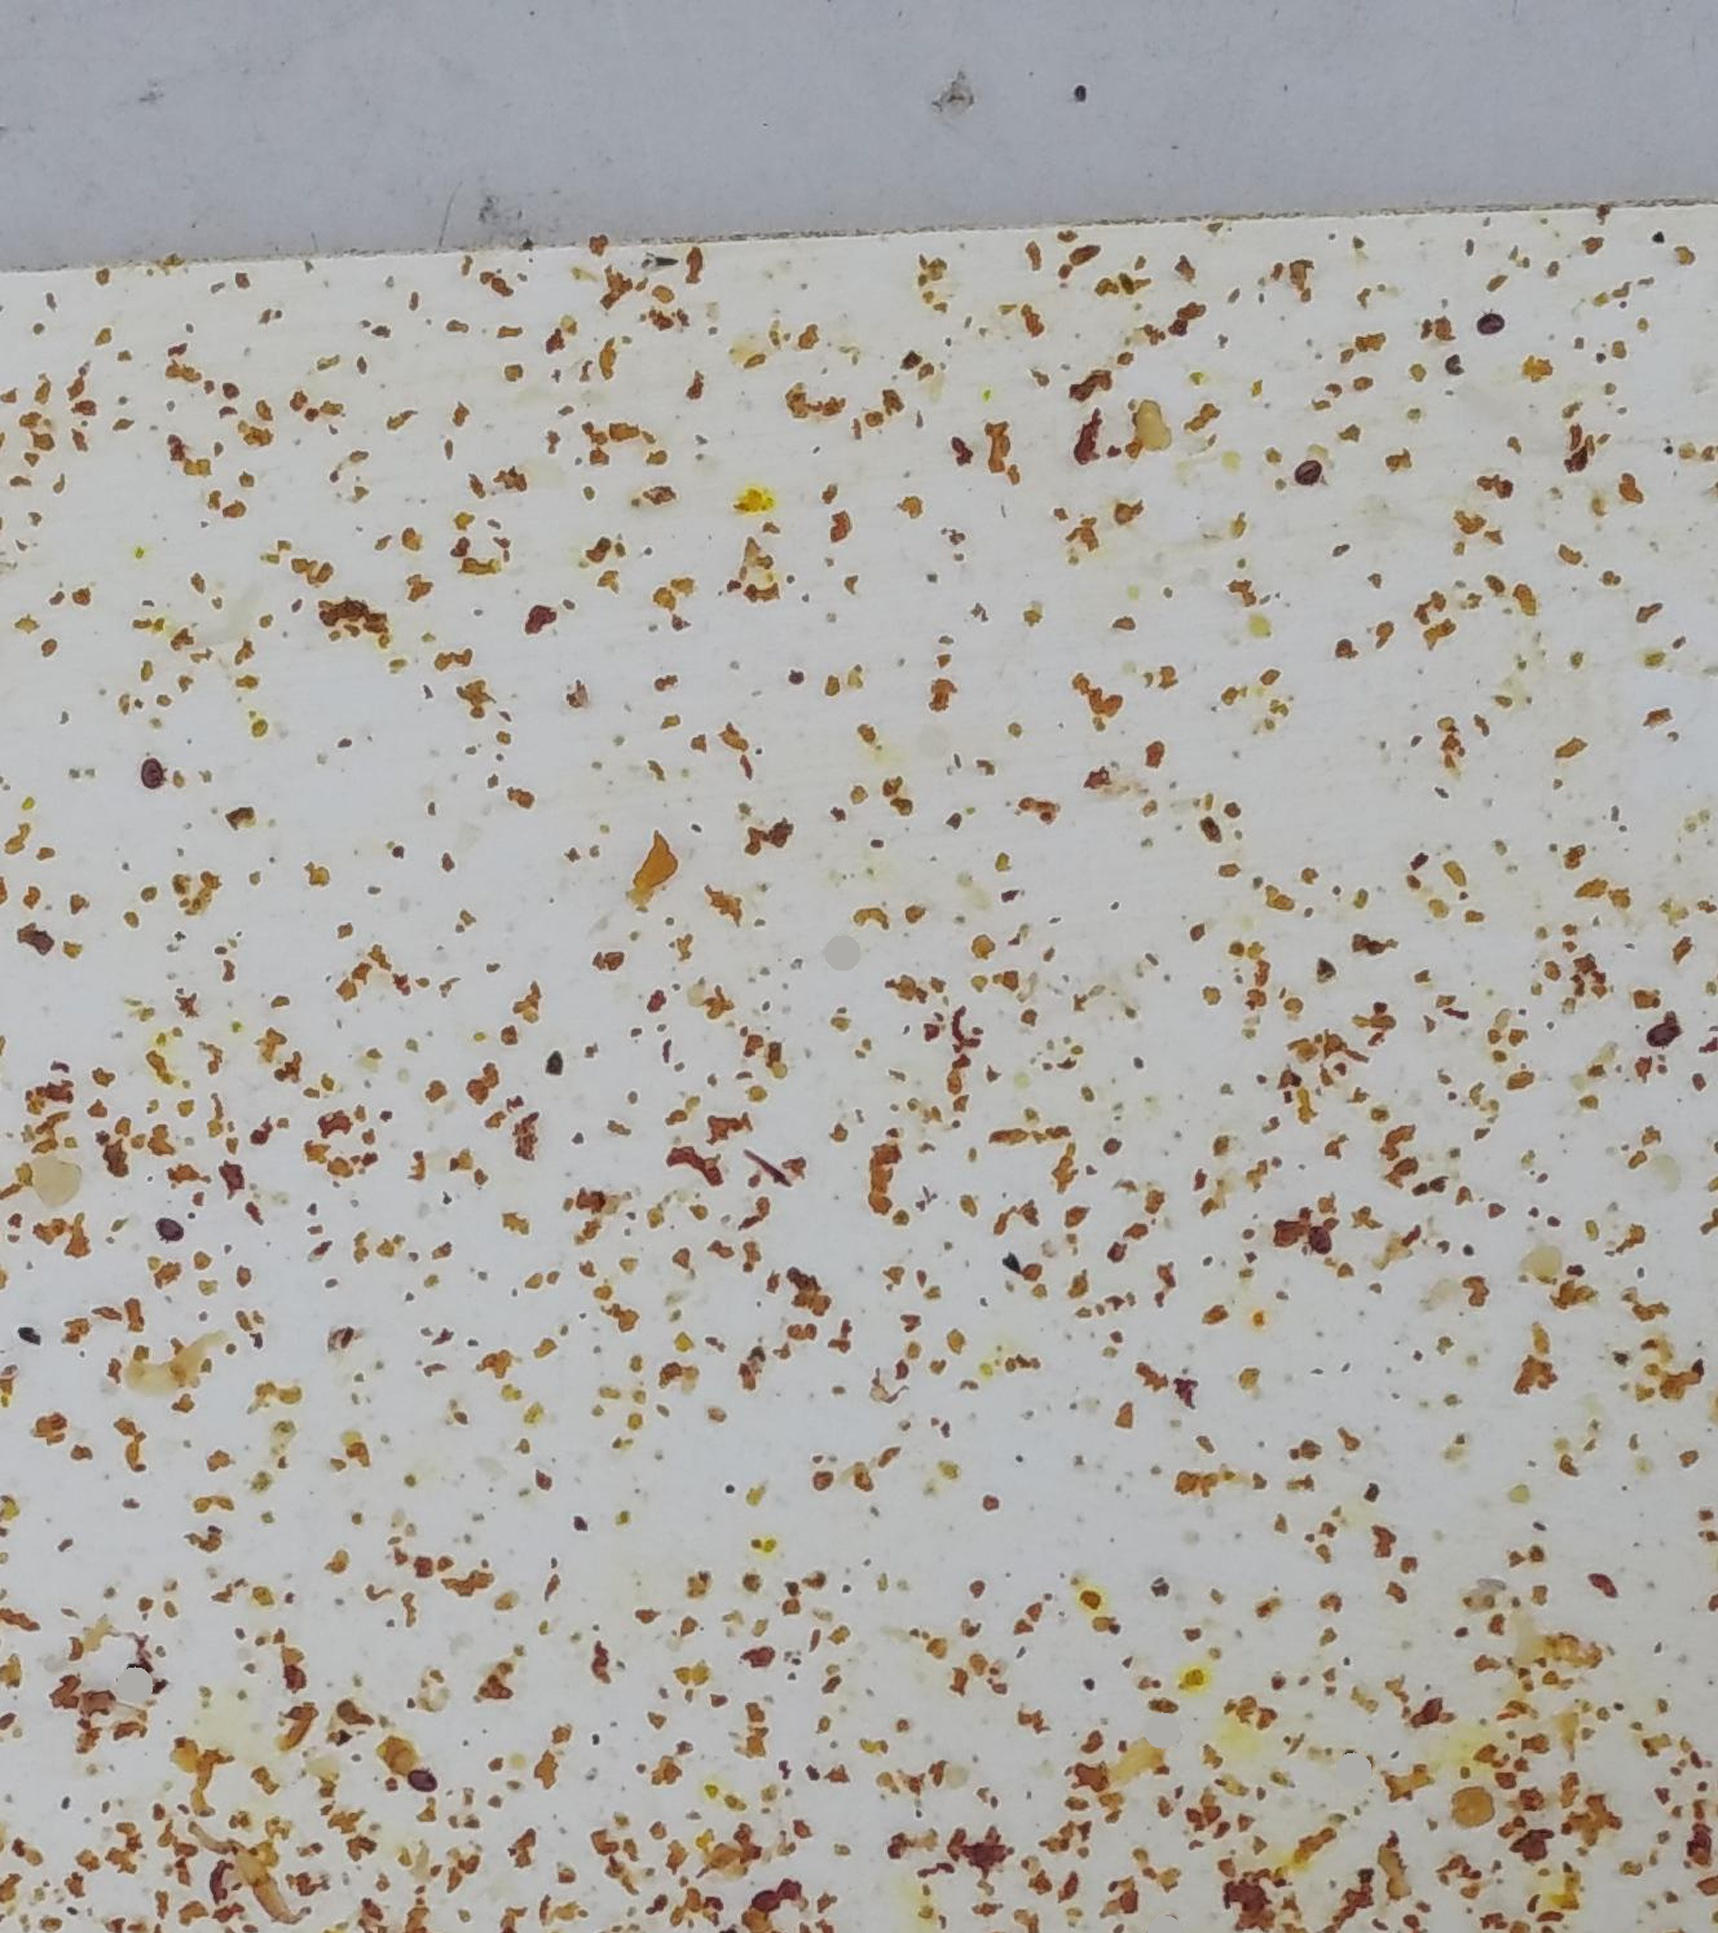Varroa: (154, 1214, 191, 1250), (408, 1756, 444, 1790), (1302, 1223, 1338, 1258), (1471, 312, 1506, 346), (138, 754, 169, 791), (1290, 454, 1323, 487), (1643, 1016, 1677, 1049)
